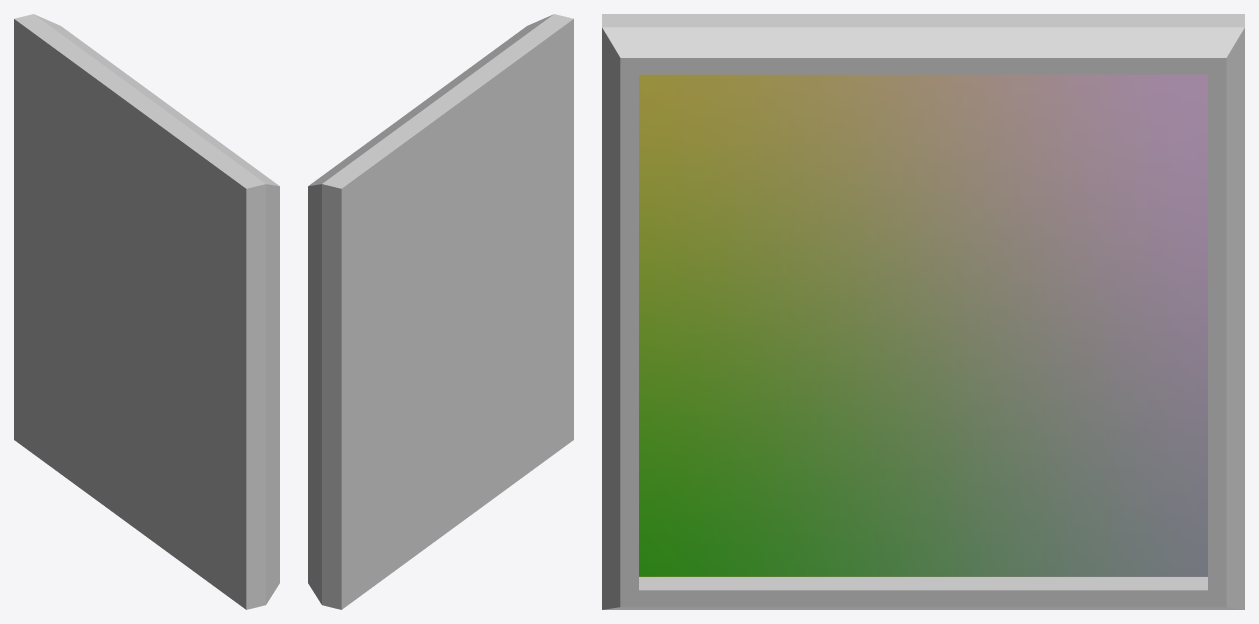
The model's file is picture.glb.
3 views of the same model, side by side, from view 1: azimuth 30°, elevation 25°; view 2: azimuth 150°, elevation 25°; view 3: azimuth 270°, elevation 25° (orthographic). The views are drawn at different scales.
Visible parts, largest first — view 1: Cube.002; view 2: Cube.002; view 3: Cube.002.
Part boxes in pixels (left/top/right/bottom): Cube.002: left=14, top=14, right=279, bottom=609; Cube.002: left=308, top=14, right=573, bottom=609; Cube.002: left=602, top=14, right=1244, bottom=609.
Bounding box in the file's own units: 0.2 × 2 × 2.
2 materials, 1 textured.
